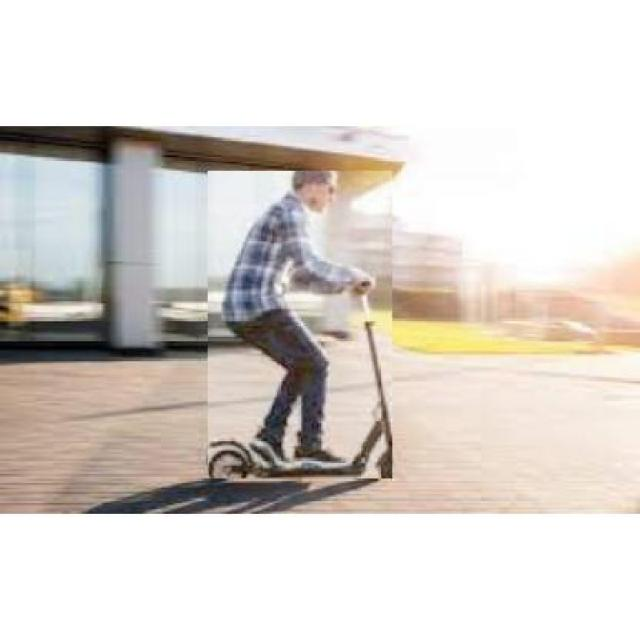pedestrian: (208, 172, 392, 479)
